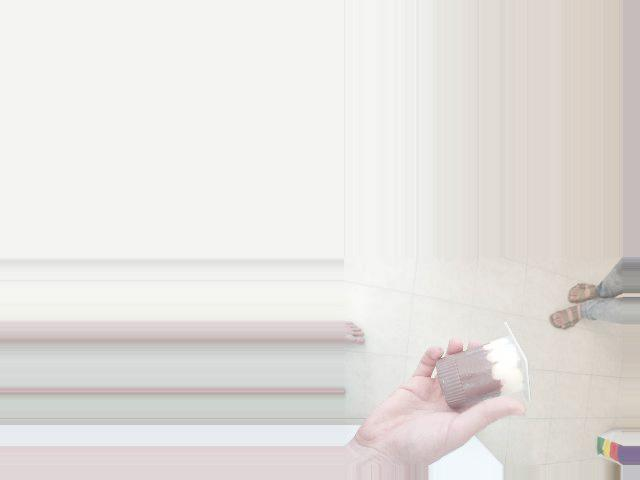milky: (425, 328, 533, 413)
